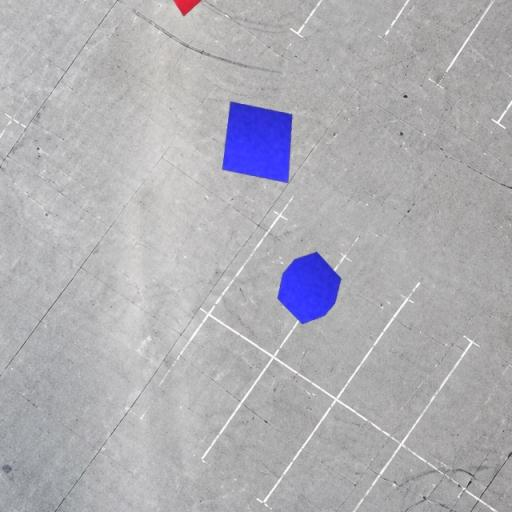BLUE_SQUARE: (222, 101, 294, 184)
RED_SQUARE: (165, 0, 209, 17)
